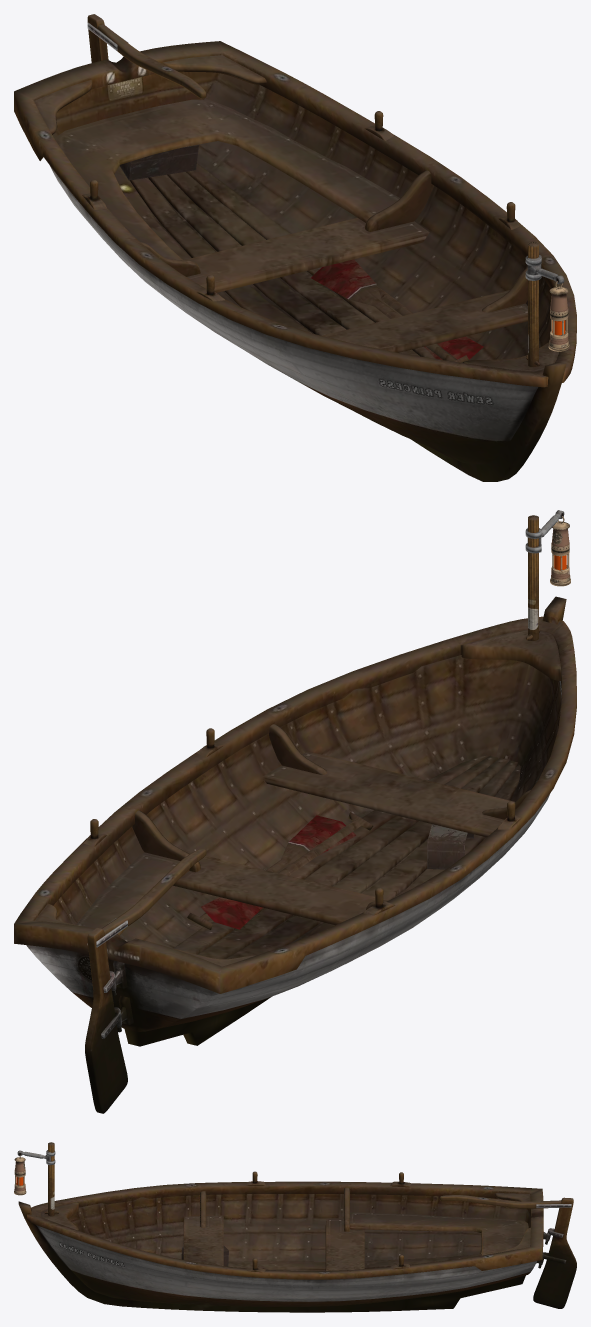
Rendered from boat.glb.
The picture shows the model from 3 angles, top to bottom: view 1: azimuth 30°, elevation 25°; view 2: azimuth 150°, elevation 25°; view 3: azimuth 270°, elevation 25°; orthographic projection. The views are drawn at different scales.
Parts seen in each view (by area): view 1: boatfoundation_low, trim_low, rearbench_low, bottomboards_low, benches_low, oar_low, braces_low, rearbraces_low, chest_low, tiller_low, pegs_low, lamppost_low (+3 smaller); view 2: boatfoundation_low, trim_low, benches_low, bottomboards_low, rudder_low, oar_low, rearbench_low, braces_low, bracefront_low, tiller_low, chest_low, pegs_low (+2 smaller); view 3: boatfoundation_low, trim_low, benches_low, rearbench_low, rudder_low, bottomboards_low, tiller_low, pegs_low, bracefront_low, rearbraces_low, braces_low, lamppost_low (+3 smaller).
Part boxes in pixels (x1,y1,x2,y2): boatfoundation_low: (50,71,566,481); trim_low: (14,41,576,387); rearbench_low: (56,99,399,260); bottomboards_low: (114,163,435,358); benches_low: (184,217,527,352); oar_low: (311,259,483,362); braces_low: (140,170,527,312); rearbraces_low: (34,55,266,134); chest_low: (120,144,198,180); tiller_low: (98,24,206,98); pegs_low: (82,111,520,301); lamppost_low: (528,242,538,366); boatfoundation_low: (26,596,566,1046); trim_low: (14,616,576,993); benches_low: (173,751,514,925); bottomboards_low: (173,755,520,959); rudder_low: (85,927,127,1113); oar_low: (187,812,373,929); rearbench_low: (76,852,189,935); braces_low: (132,724,530,909); bracefront_low: (460,629,560,680); tiller_low: (102,848,206,934); chest_low: (427,824,473,869); pegs_low: (83,728,521,915); boatfoundation_low: (18,1194,536,1312); trim_low: (27,1181,543,1279); benches_low: (183,1215,364,1270); rearbench_low: (350,1212,528,1255); rudder_low: (533,1197,576,1308); bottomboards_low: (228,1254,481,1270); tiller_low: (439,1195,561,1208); pegs_low: (246,1171,411,1272); bracefront_low: (41,1202,78,1230); rearbraces_low: (494,1193,530,1252); braces_low: (200,1187,349,1231); lamppost_low: (48,1142,54,1216).
Bounding box in the file's own units: 1.4 × 1.18 × 3.6.
2 materials, 1 textured.
